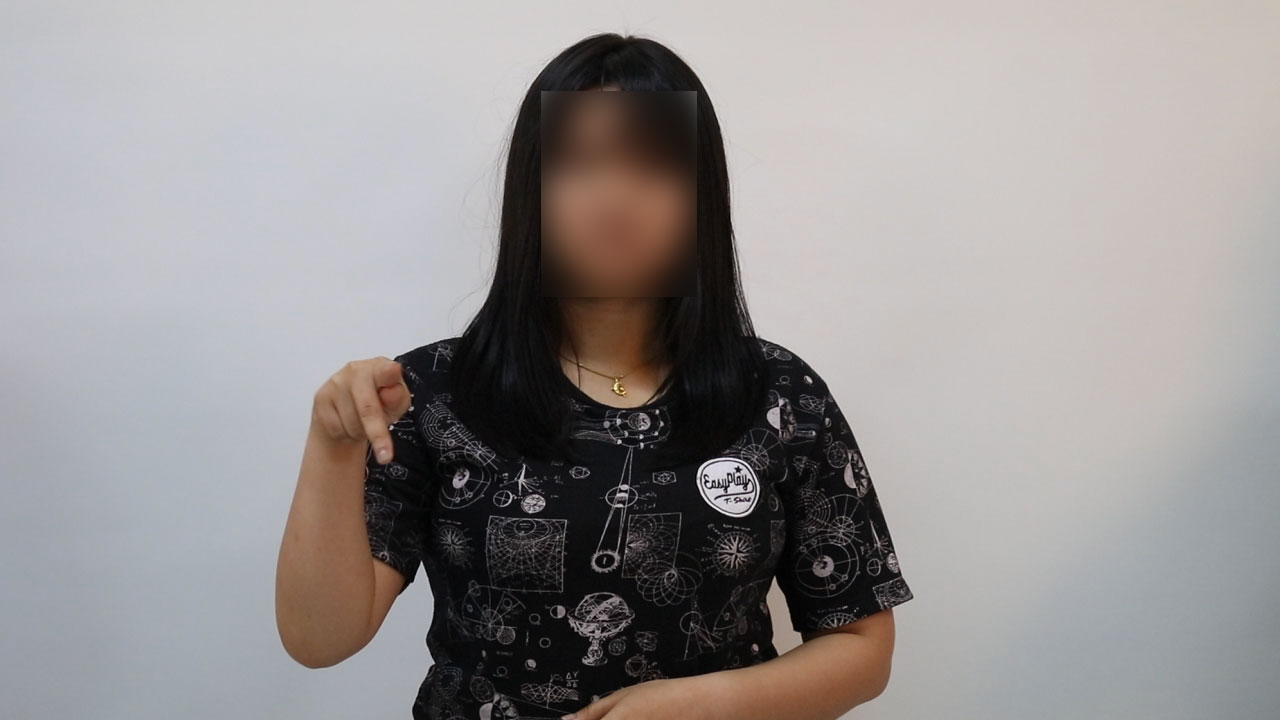por: (301, 343, 426, 476)
